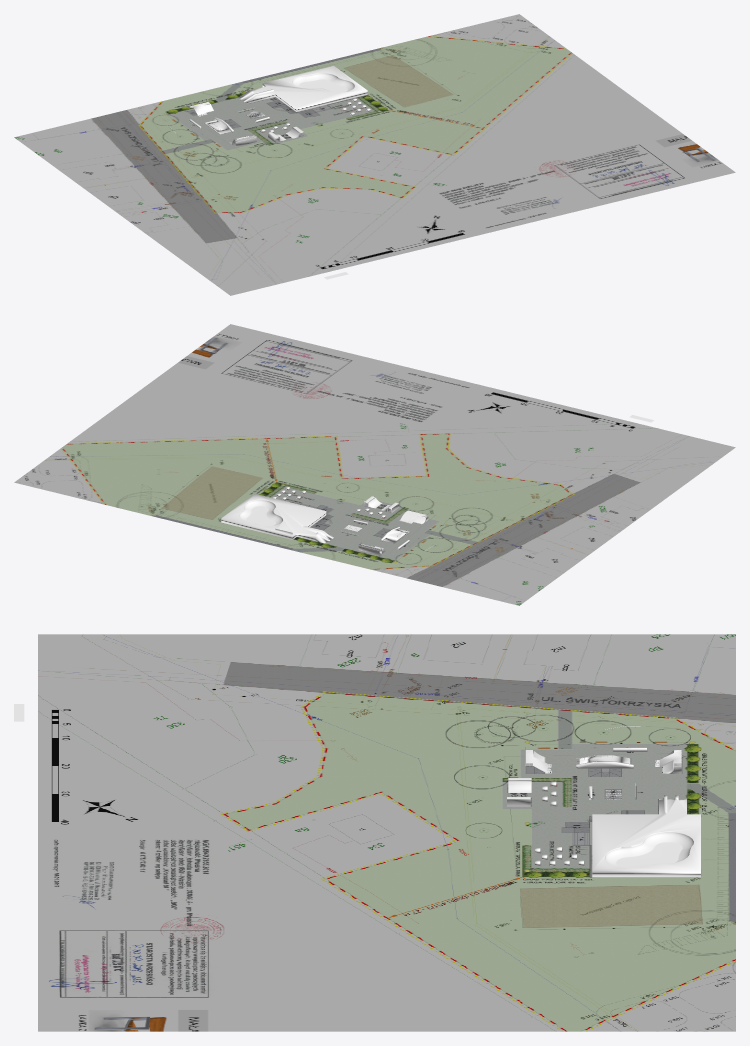
3 views of the same model, one above another, from view 1: azimuth 30°, elevation 25°; view 2: azimuth 150°, elevation 25°; view 3: azimuth 270°, elevation 25° (orthographic). The views are drawn at different scales.
Parts seen in each view (by area): view 1: Component_, Mesh61; view 2: Component_, Mesh61; view 3: Component_, Mesh61, Mesh38.
Boxes of the visible parts, x1=… form: Component_: x1=14, y1=14, x2=735, y2=295; Mesh61: x1=239, y1=66, x2=367, y2=111; Component_: x1=14, y1=324, x2=735, y2=605; Mesh61: x1=221, y1=494, x2=333, y2=543; Component_: x1=38, y1=634, x2=735, y2=1031; Mesh61: x1=592, y1=795, x2=700, y2=877; Mesh38: x1=576, y1=755, x2=633, y2=768.
Size of the model in its own units: 36691 by 502 by 28162.
3 materials, 1 textured.
